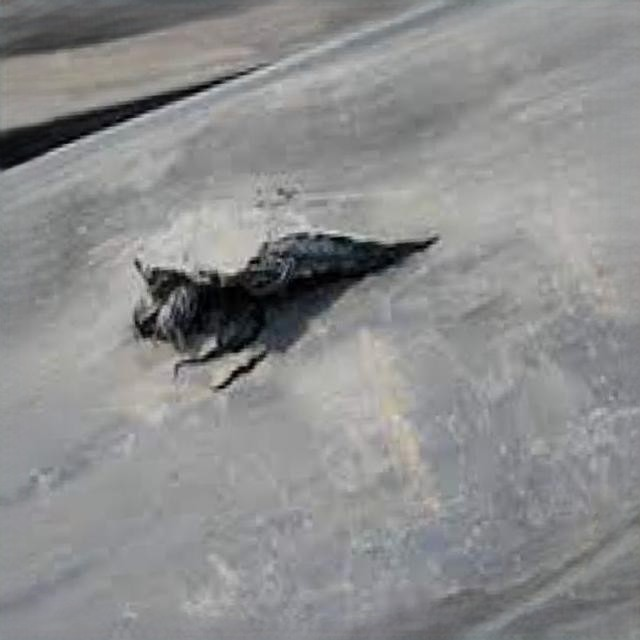Tear: (123, 212, 451, 402)
